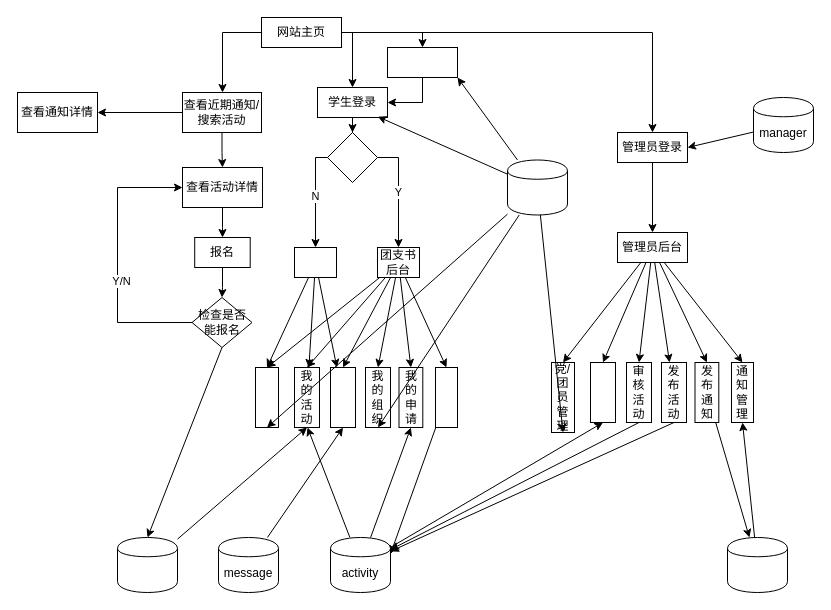
Some shapes in this 831 by 610 pixel diagram are drawn without their labels. Here are the shapes that lost their labels. From the top down, the centre of each, then its label:
At (x=422, y=62): "学生注册".
At (x=352, y=157): "是否是团支书".
At (x=537, y=187): "student".
At (x=315, y=262): "普通学生后台".
At (x=266, y=397): "我的信息".
At (x=343, y=397): "我的消息".
At (x=446, y=397): "申请活动".
At (x=603, y=392): "活动管理".
At (x=147, y=564): "stu_act".
At (x=757, y=564): "notice".
